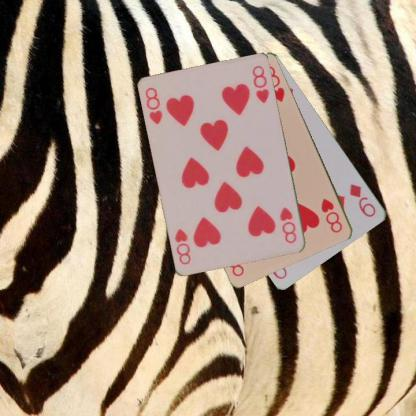8h: (318, 195, 344, 235), (143, 85, 164, 126), (277, 205, 298, 245)
9d: (348, 181, 378, 219)
